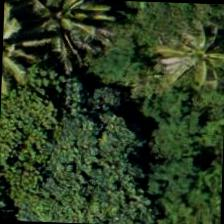Kelapa_Sawit: (152, 7, 223, 101), (15, 0, 108, 58)
